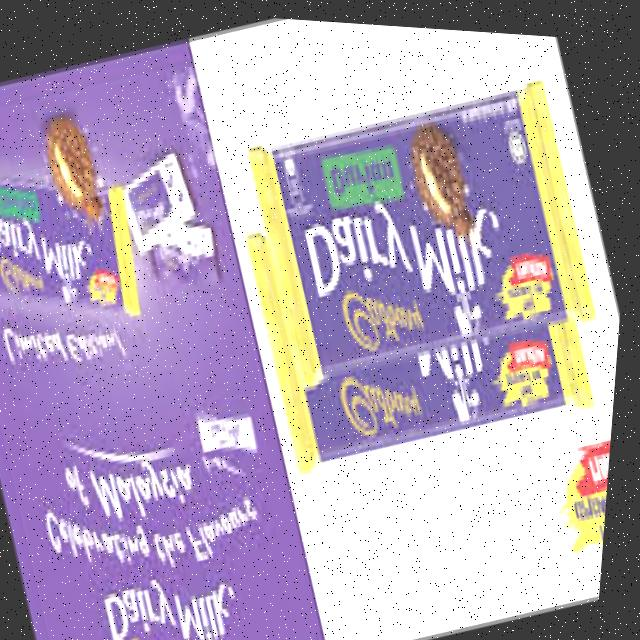cadbury: (257, 68, 586, 381), (0, 131, 159, 353), (137, 630, 206, 640)
